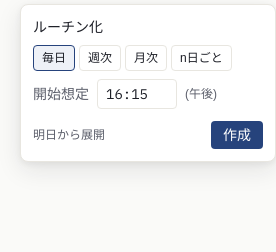
RoutinizePopover（画面定義書01 §4.1 / O-12: 最小の入力でタスクからルーチンを作る） › 入力の検証（§4.1: 不正なら確定させずポップオーバー内に出す） › invalid_month_day: 月次の日が空（0 扱いで範囲外）
The image size is (276, 252).
Click the button "月次": (146, 58) [125, 45, 167, 71]
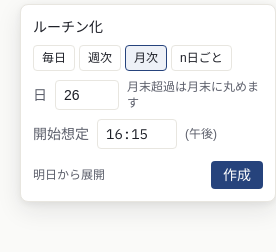
Clear the number field labelled "日 月末超過は月末に丸めます": (87, 95) [55, 80, 119, 110]
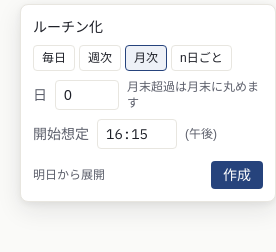
Click the button "作成": (237, 175) [211, 161, 263, 189]
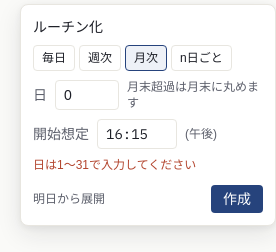
Expected: the text "日は1〜31で入力してください" is shown, [33, 158, 196, 172]
